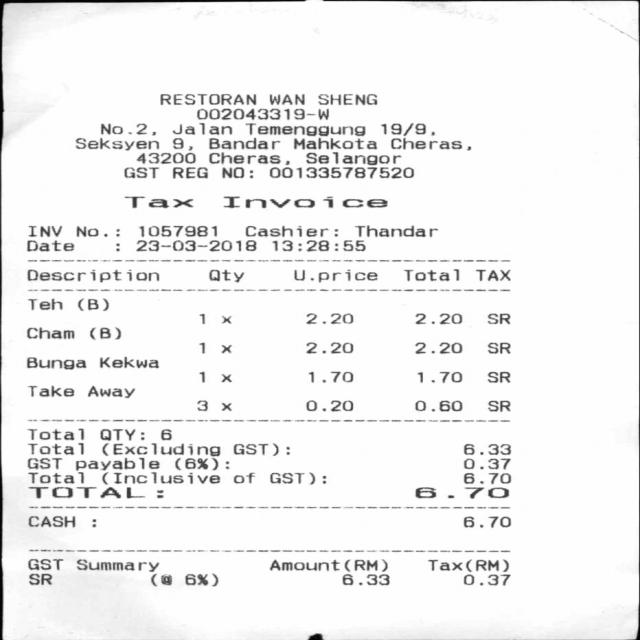text: (222, 196, 386, 207), (268, 166, 412, 178), (101, 442, 218, 456), (28, 486, 162, 498), (25, 269, 158, 281), (196, 108, 328, 119), (244, 123, 364, 135), (268, 559, 386, 571), (101, 472, 218, 484), (135, 240, 254, 250), (306, 152, 400, 164), (159, 94, 255, 105), (207, 151, 288, 164), (293, 269, 378, 281), (415, 487, 507, 498), (74, 137, 158, 149), (245, 225, 336, 236), (294, 137, 376, 149), (75, 457, 157, 469), (75, 559, 157, 571), (389, 137, 470, 149), (428, 559, 507, 571), (271, 240, 364, 250), (353, 225, 436, 236), (138, 225, 216, 236), (208, 137, 279, 149), (124, 196, 192, 207), (233, 442, 288, 455), (26, 357, 85, 369), (381, 122, 434, 135), (403, 268, 460, 280), (26, 428, 82, 440), (269, 472, 325, 484), (316, 94, 376, 105), (99, 356, 158, 367), (100, 122, 154, 134), (174, 457, 228, 469), (172, 123, 230, 134), (136, 152, 194, 163), (28, 443, 82, 454), (28, 472, 82, 483), (87, 385, 133, 397), (28, 515, 74, 527), (99, 428, 143, 440), (413, 342, 460, 353), (27, 327, 73, 338), (27, 385, 73, 396), (463, 443, 509, 454), (463, 472, 509, 483), (463, 516, 509, 527), (463, 574, 509, 585), (416, 371, 460, 382), (307, 371, 351, 382), (413, 313, 460, 323), (304, 342, 351, 352), (304, 400, 351, 410), (413, 400, 460, 410), (76, 225, 118, 236), (27, 240, 73, 250), (305, 313, 351, 323), (463, 458, 509, 468), (341, 574, 387, 584), (77, 297, 108, 311), (207, 269, 243, 281), (184, 573, 217, 586), (27, 558, 62, 570), (172, 166, 206, 178), (474, 269, 511, 280), (26, 298, 62, 309), (123, 167, 158, 178), (27, 225, 60, 236), (88, 327, 120, 338), (268, 94, 303, 104), (26, 458, 61, 468), (222, 167, 252, 178), (27, 573, 51, 585), (149, 573, 170, 586), (486, 342, 509, 353), (486, 371, 509, 382), (172, 138, 192, 150), (486, 400, 509, 410), (486, 313, 508, 323), (234, 472, 254, 483), (196, 399, 208, 411), (219, 344, 232, 353), (221, 402, 232, 411), (161, 429, 170, 439), (198, 342, 206, 353), (198, 371, 206, 382), (199, 313, 206, 324), (220, 374, 231, 381), (222, 316, 229, 322)
